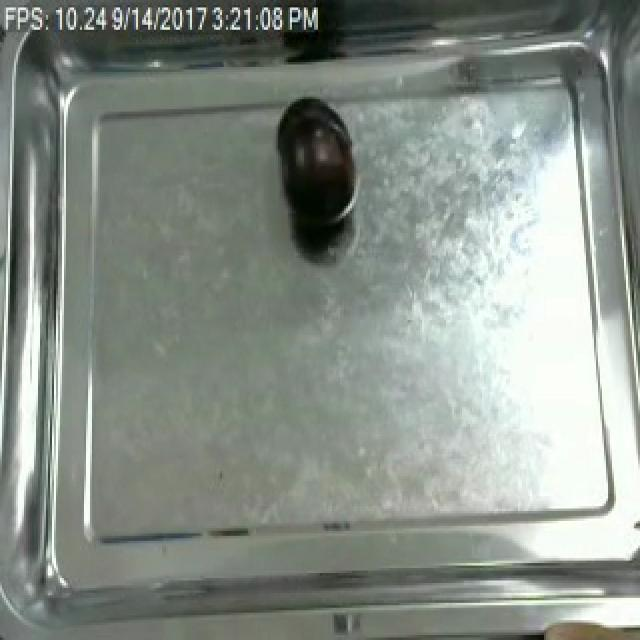Fruit: (270, 94, 360, 238), (524, 603, 640, 640)
